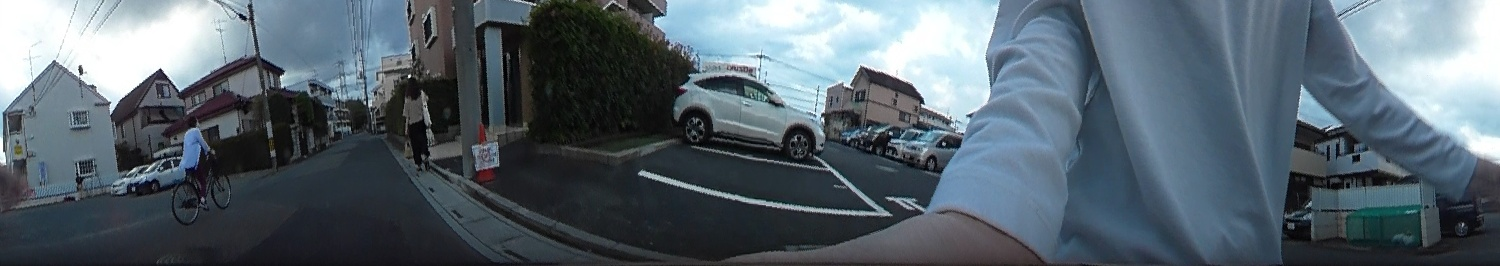person: (174, 116, 215, 196), (401, 74, 433, 169)
